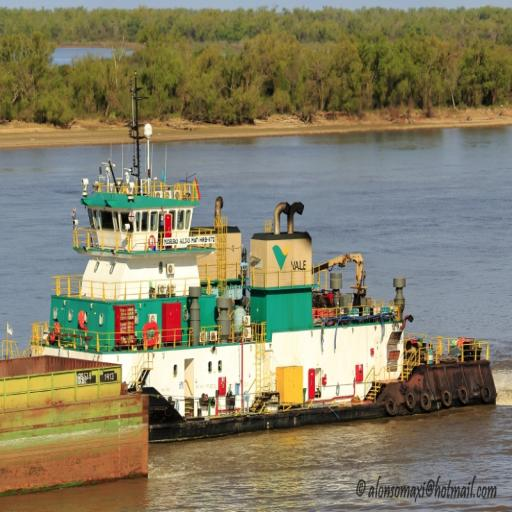tugboat: (3, 169, 502, 451)
